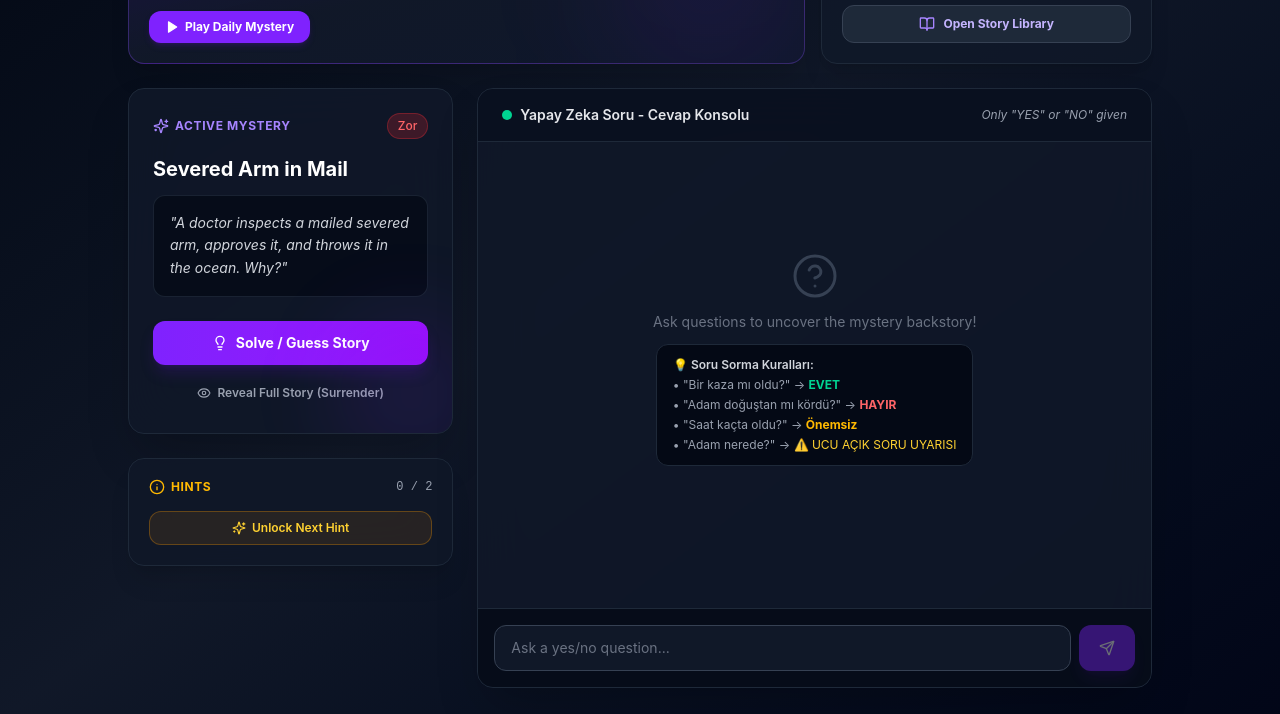
Test case: Story Puzzle - Lateral Thinking Evaluation Engine › Story Puzzle Component - 24-Hour Surrender Lockout Flow › should lock input, disable solving, and permanently show backstory when user surrenders
(page scrolled)
Click surrender
Click the button "Reveal Full Story (Surrender)".
click(291, 393)  # box [153,377,428,409]
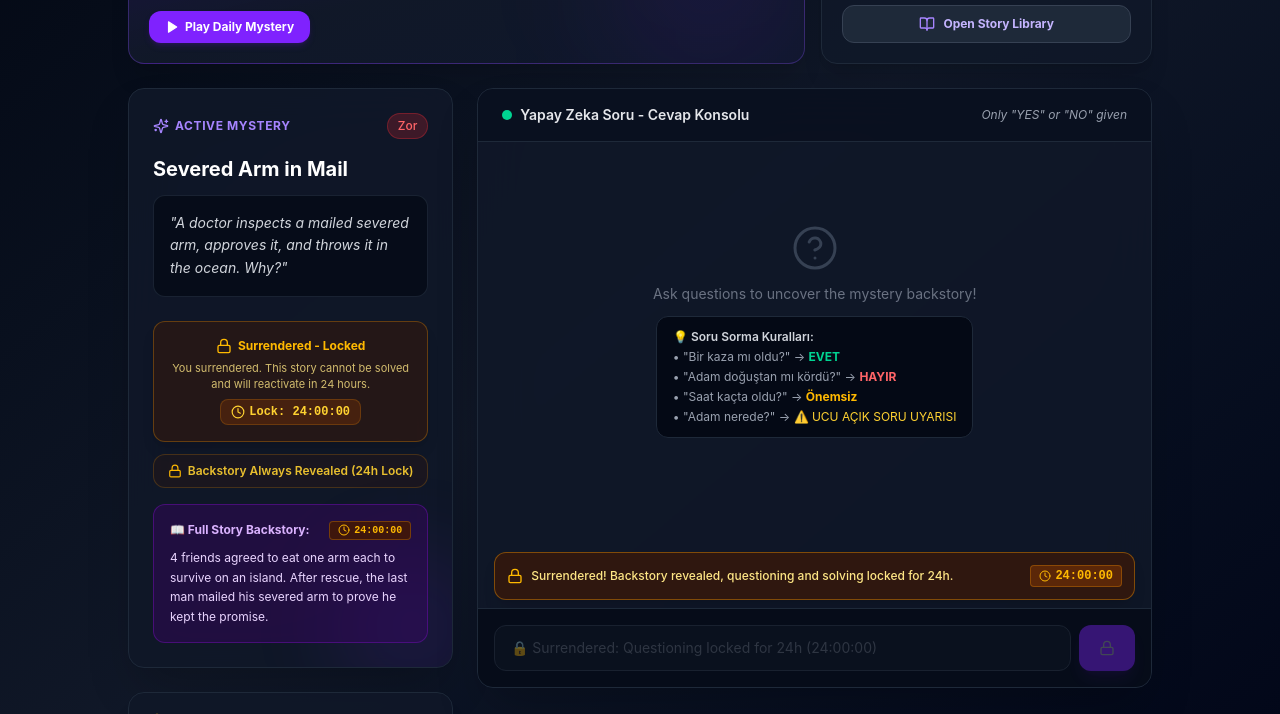
Result: the text "📖 Full Story Backstory:" is shown at [170,522,310,538]
Result: the field with placeholder "🔒 Surrendered: Questioning locked for 24h (24:00:00)" is disabled at [494,624,1071,670]
Result: the text "Surrendered - Locked" is shown at [238,338,365,354]
